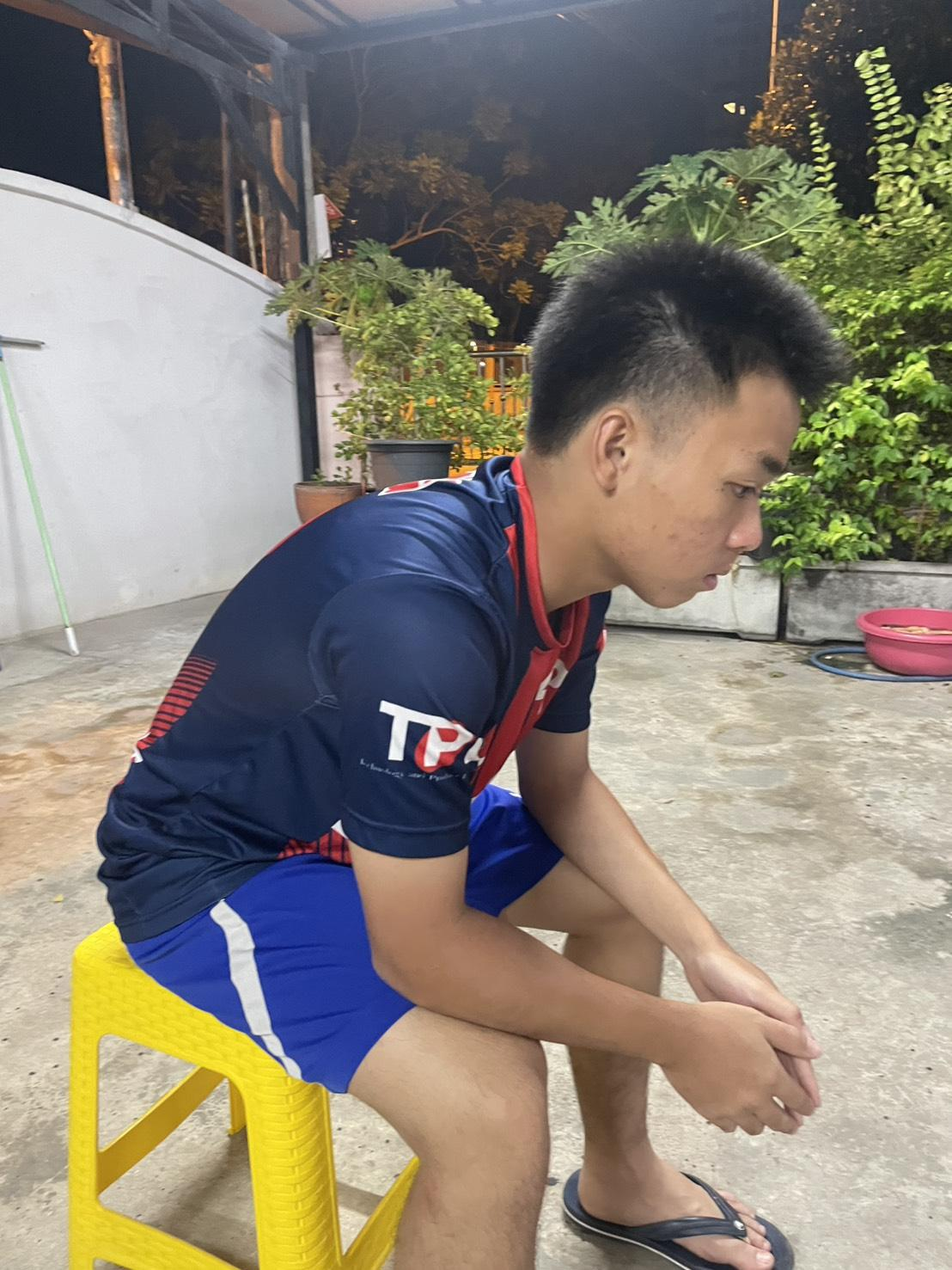BadPosture: (99, 241, 850, 930)
